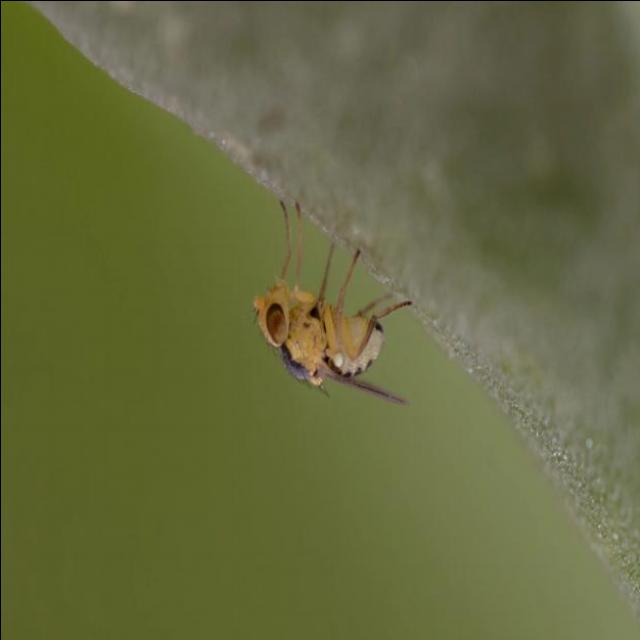Serpentine leafminer: (250, 190, 418, 413)
